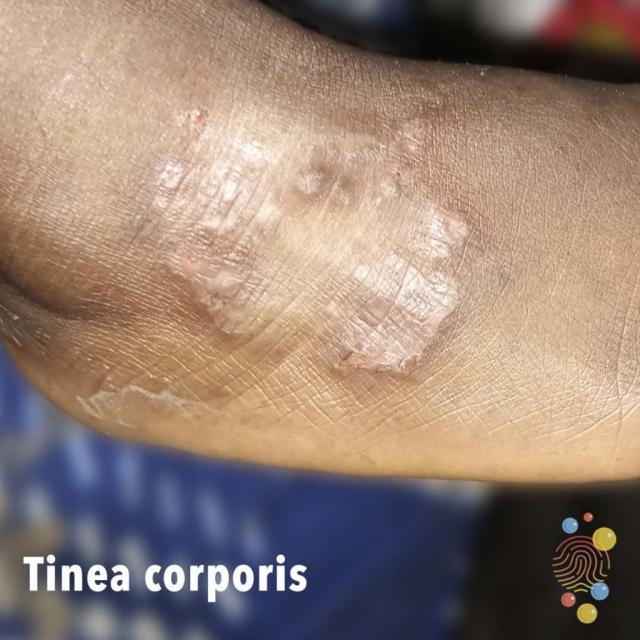tinea: (79, 52, 628, 462)
